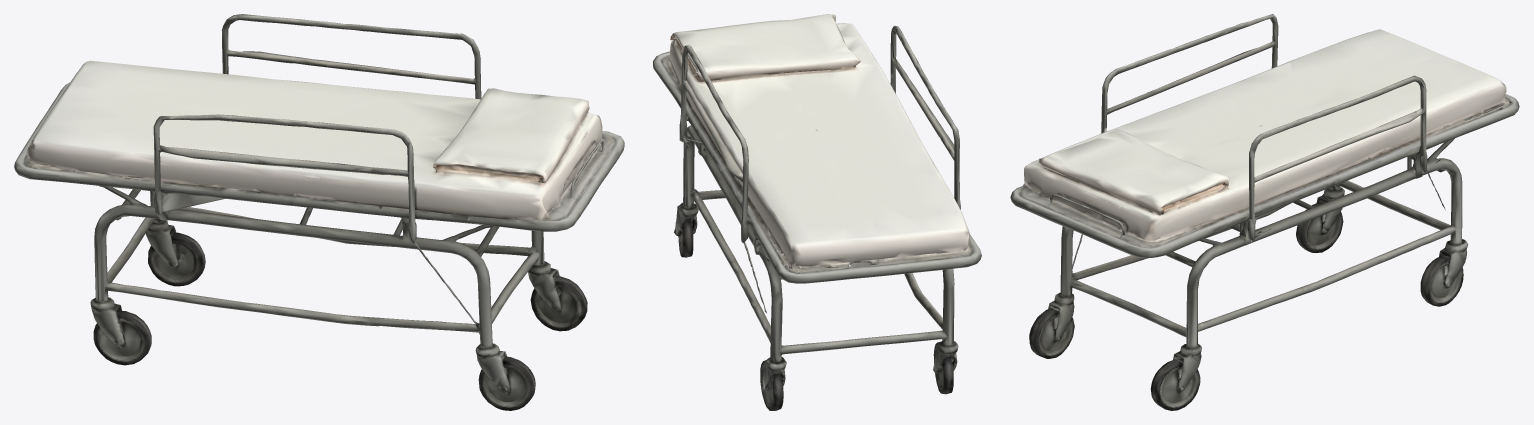
3 views of the same model, side by side, from view 1: azimuth 30°, elevation 25°; view 2: azimuth 150°, elevation 25°; view 3: azimuth 270°, elevation 25° (orthographic). The views are drawn at different scales.
Visible parts, largest first — view 1: repaired; view 2: repaired; view 3: repaired.
Boxes of the visible parts, x1,y1,x2,y2 form: repaired: (14, 14, 624, 410); repaired: (653, 14, 981, 410); repaired: (1010, 14, 1519, 410).
Size of the model in its own units: 0.9991 by 0.5549 by 1.
Materials: 1 (1 with a texture image).
